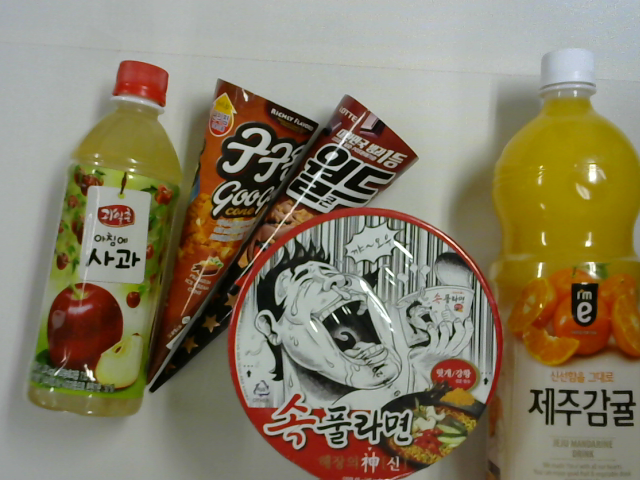GooGoo_Cone_CVS: (143, 77, 312, 385)
Hejangpul: (234, 210, 500, 480)
Jeju_Tangerine_1.5L: (480, 56, 640, 480)
Morning_Apple_500ml: (34, 56, 171, 415)
World_Cone_Choco: (156, 96, 420, 391)
